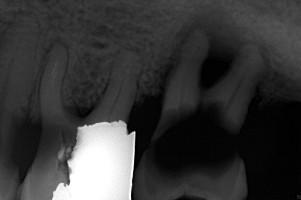Dental Caries: (142, 6, 271, 95)
Endo-Periodontal Lesion: (65, 105, 93, 117)
